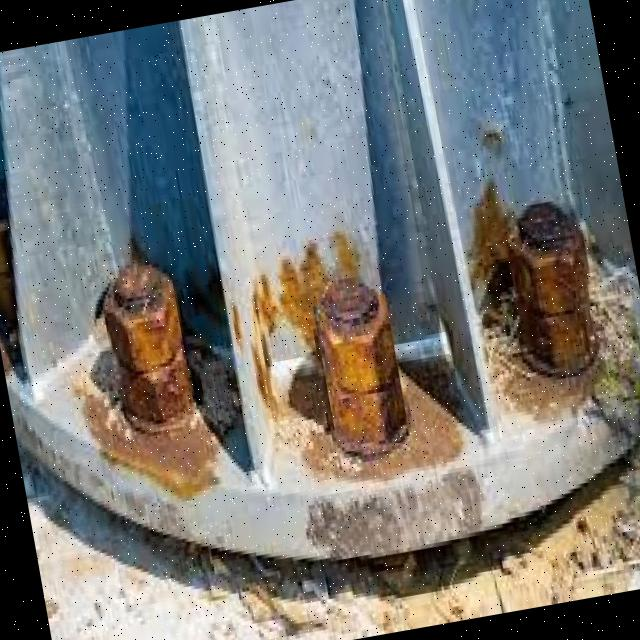Corrosion: (233, 213, 468, 496), (47, 224, 246, 516), (452, 162, 616, 430), (294, 223, 415, 464)
